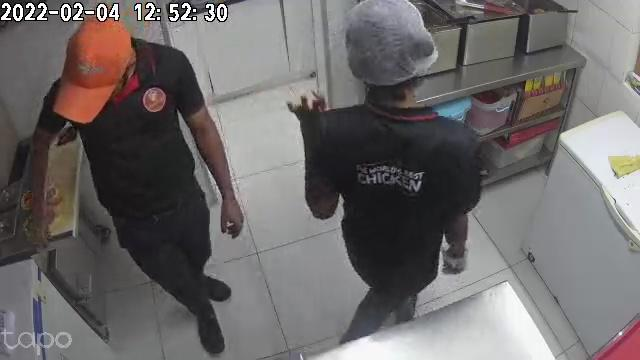no_gloves: (218, 189, 243, 238)
